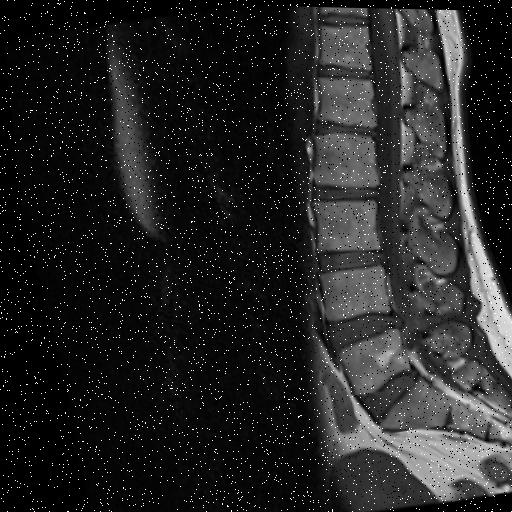L1: (317, 75, 372, 125)
L2: (309, 132, 375, 186)
L3: (311, 199, 374, 249)
L4: (316, 263, 384, 318)
L5: (330, 326, 402, 393)
S1: (370, 375, 441, 428)
